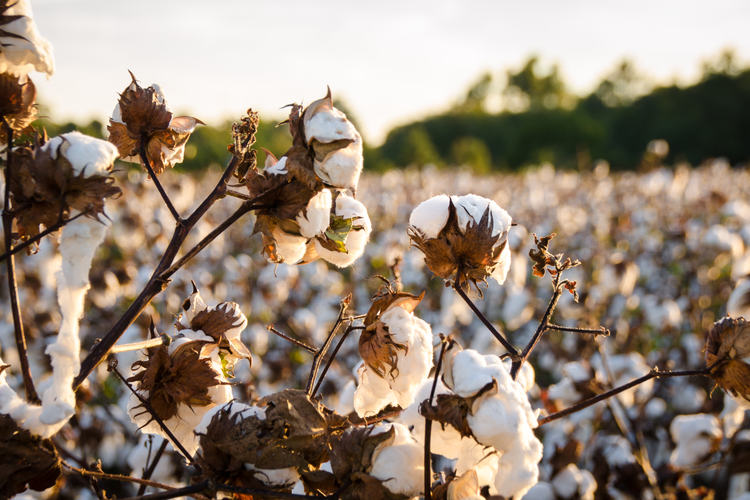cotton: (1, 2, 615, 500)
